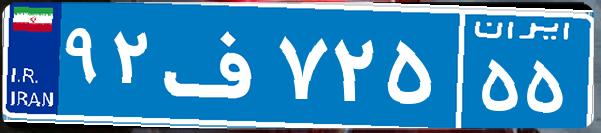2: (330, 28, 385, 110), (110, 28, 158, 105)
5: (385, 28, 445, 110), (475, 38, 525, 113), (525, 38, 570, 115)
7: (273, 28, 330, 110)
9: (57, 26, 110, 107)
ف: (158, 15, 273, 115)
